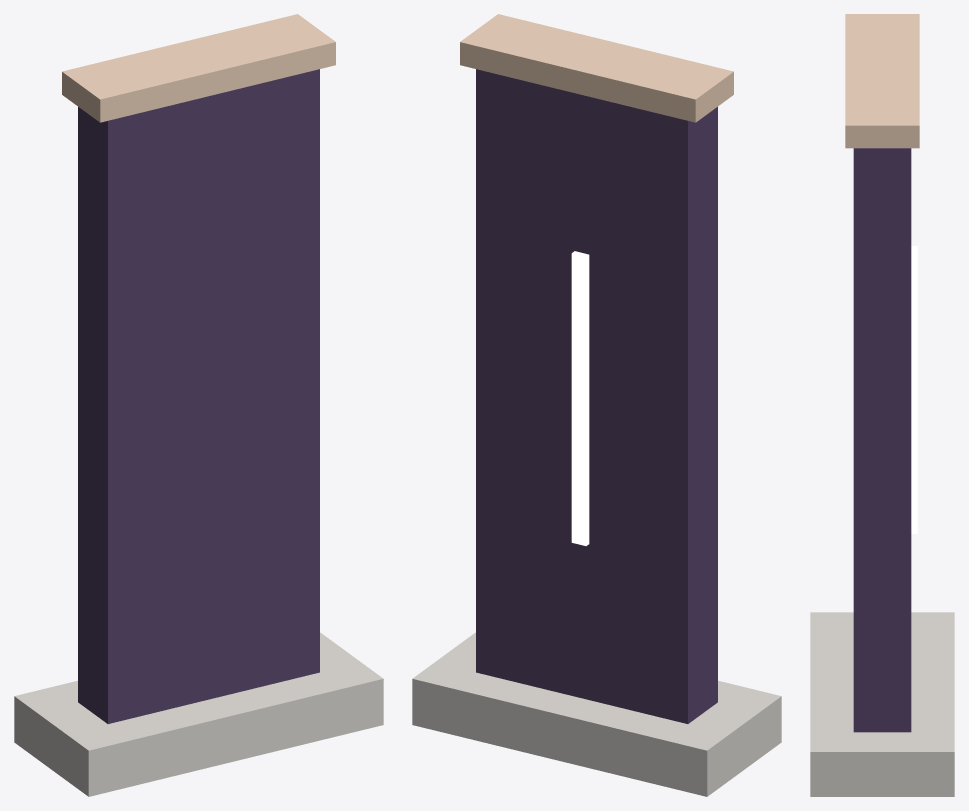
The model's file is monolith.glb.
3 renders of one model, left to right at view 1: azimuth 30°, elevation 25°; view 2: azimuth 150°, elevation 25°; view 3: azimuth 270°, elevation 25°, orthographic. The views are drawn at different scales.
Visible parts, largest first — view 1: Monolith; view 2: Monolith; view 3: Monolith.
Part boxes in pixels (x1=…): Monolith: x1=14, y1=14, x2=383, y2=796; Monolith: x1=412, y1=14, x2=781, y2=796; Monolith: x1=810, y1=14, x2=954, y2=796.
Bounding box in the file's own units: 1.6 × 3.51 × 0.7.
